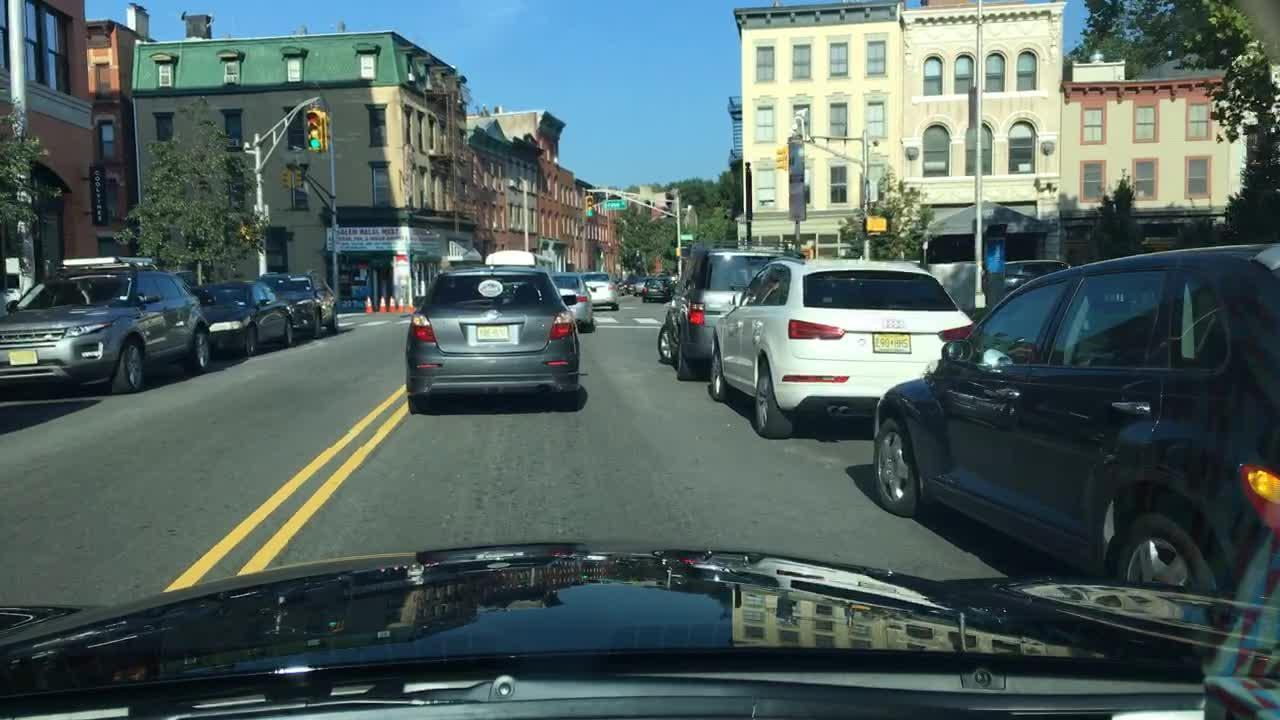Audi: (875, 314, 914, 336)
